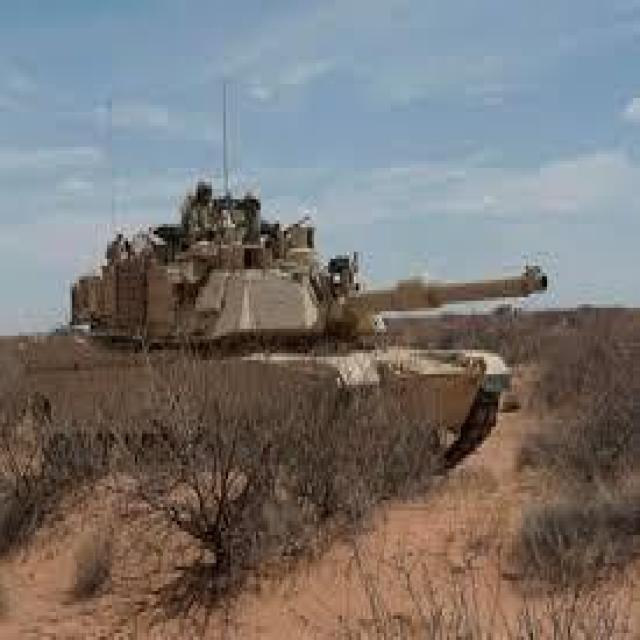Tanks: (30, 190, 547, 509)
